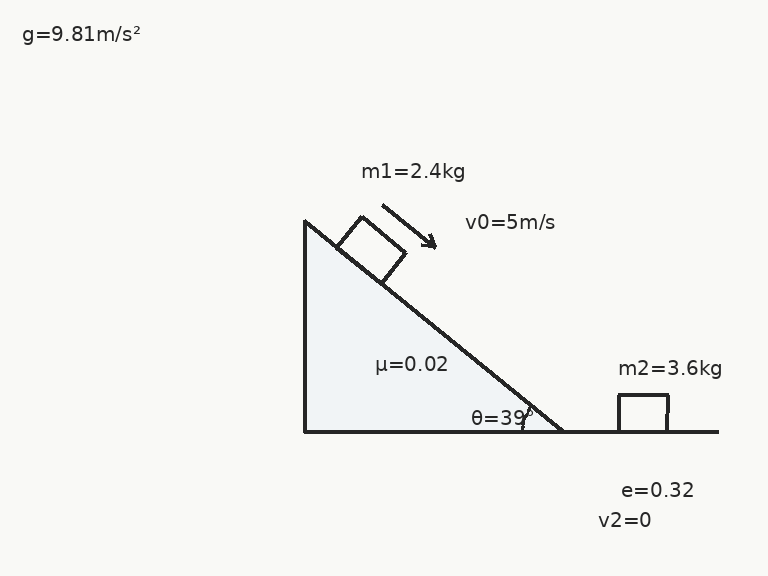block: (334, 215, 407, 285), (617, 393, 669, 433)
ramp: (301, 219, 564, 433)
